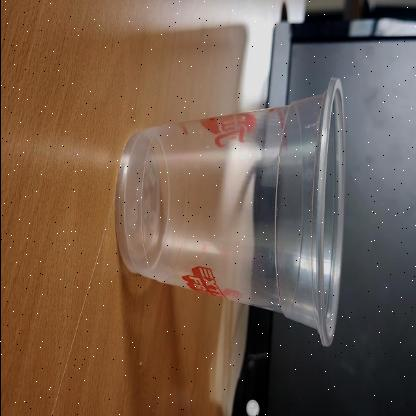Others: (115, 78, 347, 350)
